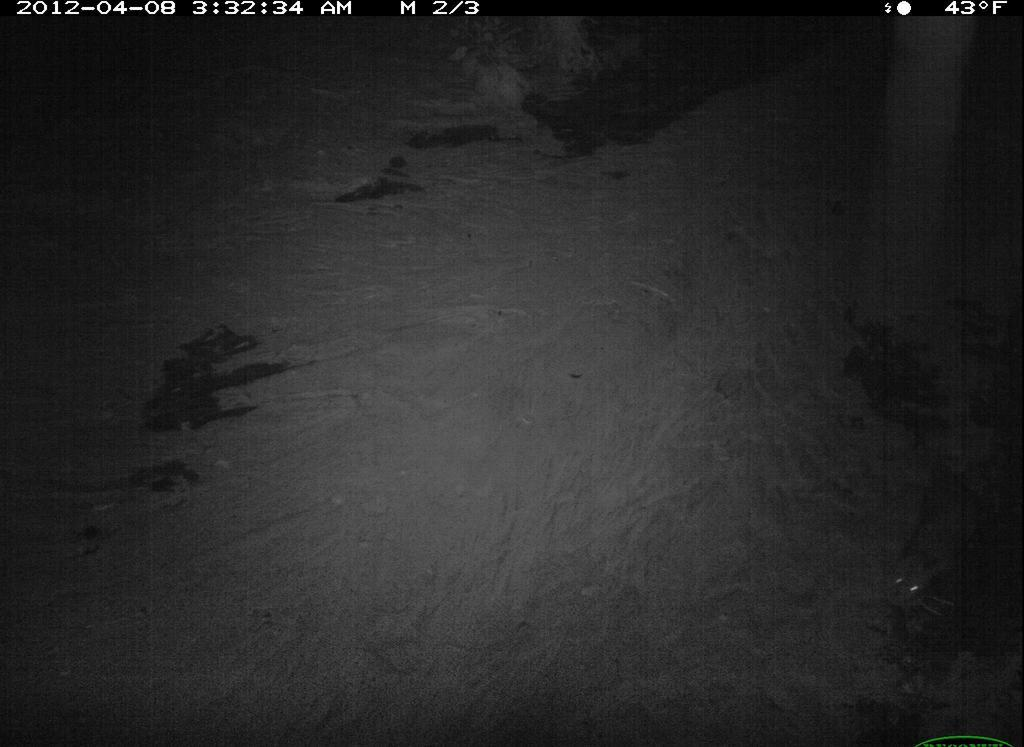opossum: (889, 438, 995, 641)
